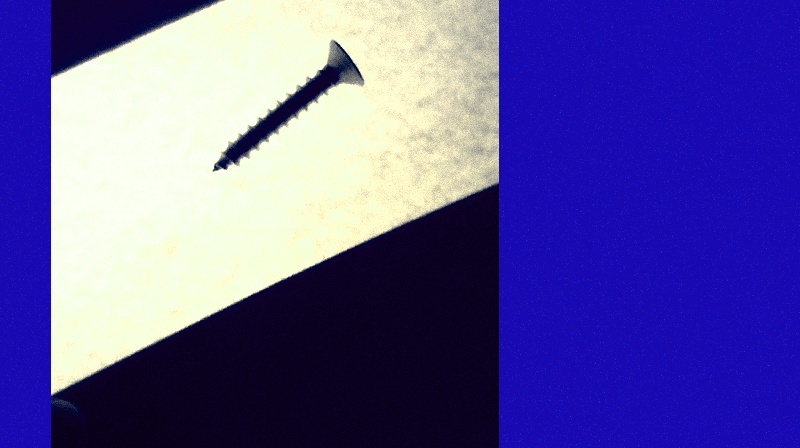S001: (206, 37, 367, 178)
